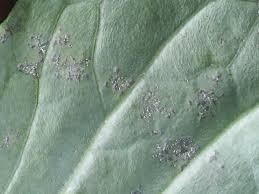Bok-Choy-Diseased: (0, 11, 259, 194)
